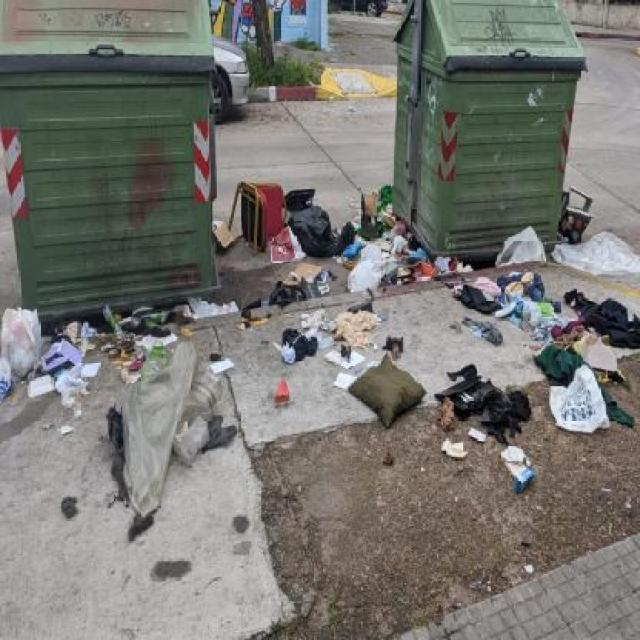garbage: (0, 305, 639, 500), (220, 174, 437, 342), (483, 188, 639, 362), (413, 234, 512, 331)
